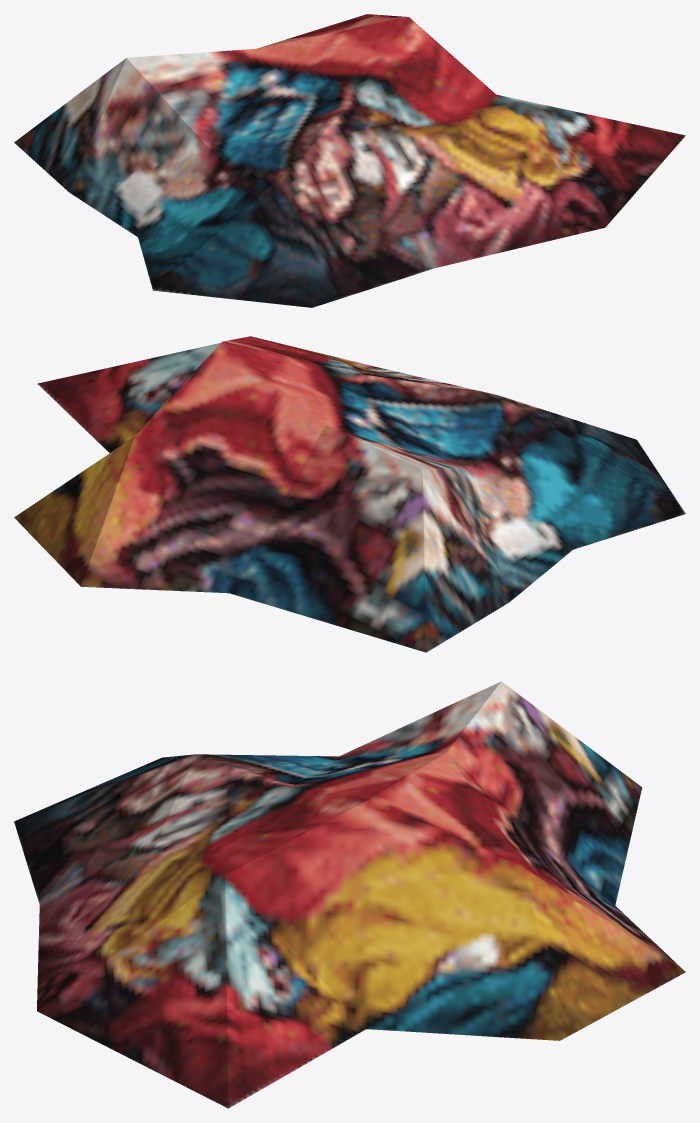
The model's file is pile-of-clothes.obj.
3 views of the same model, one above another, from view 1: azimuth 30°, elevation 25°; view 2: azimuth 150°, elevation 25°; view 3: azimuth 270°, elevation 25° (orthographic). The views are drawn at different scales.
Visible parts, largest first — view 1: pile-of-clothes-col; view 2: pile-of-clothes-col; view 3: pile-of-clothes-col.
Part boxes in pixels (box(x1,y1,x2,y2)): pile-of-clothes-col: box(14, 14, 685, 307); pile-of-clothes-col: box(14, 336, 685, 652); pile-of-clothes-col: box(14, 681, 685, 1108).
Bounding box in the file's own units: 0.8844 × 0.2 × 0.7155.
